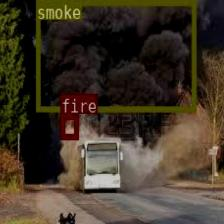fire: (60, 113, 78, 138)
smoke: (35, 0, 195, 110)
